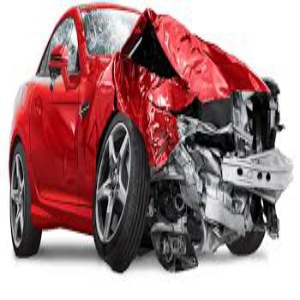bonnet: (138, 10, 253, 96)
bumper: (156, 139, 253, 258)
